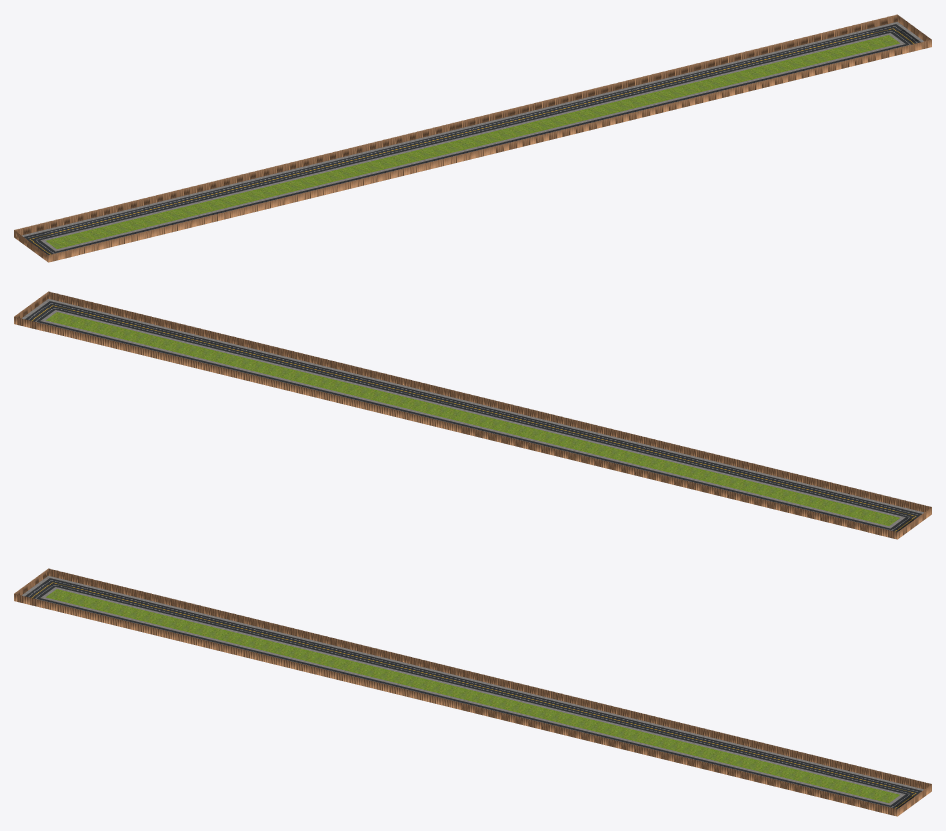
Rendered from terrible.obj.
3 views of the same model, one above another, from view 1: azimuth 30°, elevation 25°; view 2: azimuth 150°, elevation 25°; view 3: azimuth 330°, elevation 25° (orthographic).
Visible parts, largest first — view 1: ROAD_TILE_Plane.001_ROAD_TILE_Plane.004; view 2: ROAD_TILE_Plane.001_ROAD_TILE_Plane.004; view 3: ROAD_TILE_Plane.001_ROAD_TILE_Plane.004.
Boxes of the visible parts, x1=… form: ROAD_TILE_Plane.001_ROAD_TILE_Plane.004: x1=14, y1=14, x2=931, y2=262; ROAD_TILE_Plane.001_ROAD_TILE_Plane.004: x1=14, y1=291, x2=931, y2=539; ROAD_TILE_Plane.001_ROAD_TILE_Plane.004: x1=14, y1=568, x2=931, y2=816.
Bounding box in the file's own units: 1331 × 11.01 × 89.94.
Materials: 9 (9 with a texture image).
